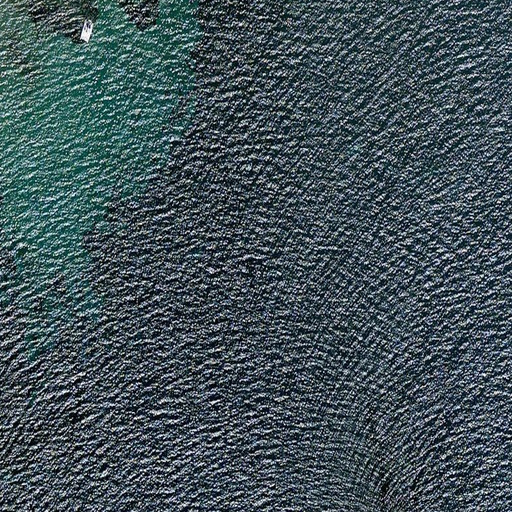ship: (78, 16, 94, 46)
